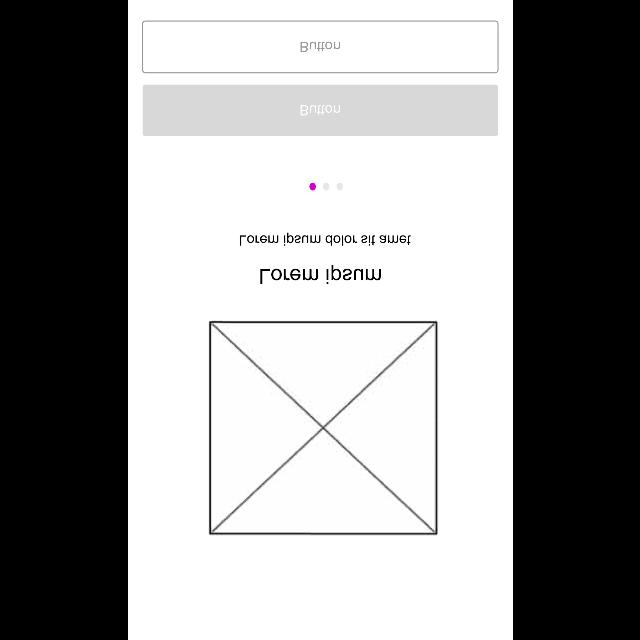image: (208, 320, 438, 536)
pageindicator: (308, 183, 342, 191)
text: (260, 265, 380, 285), (238, 232, 410, 245)
textbutton: (142, 21, 498, 74), (142, 84, 498, 136)
